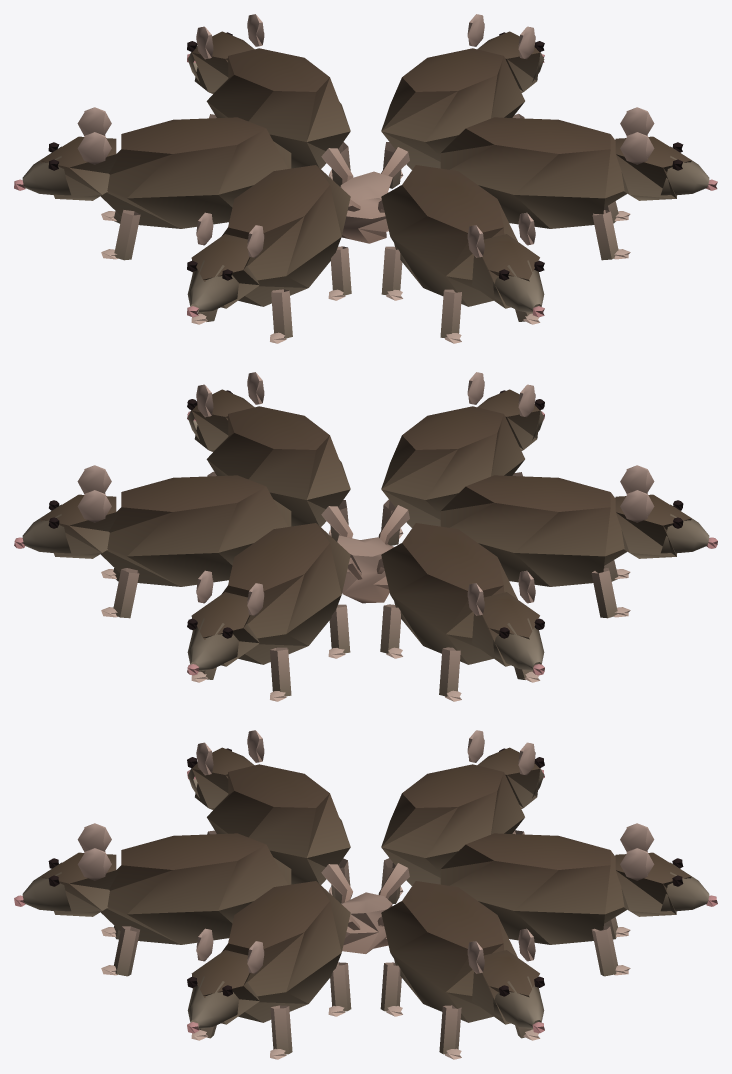
File: rat_king.glb
3 renders of one model, top to bottom at view 1: azimuth 30°, elevation 25°; view 2: azimuth 150°, elevation 25°; view 3: azimuth 270°, elevation 25°, orthographic.
Visible parts, largest first — view 1: rat_king; view 2: rat_king; view 3: rat_king.
Boxes of the visible parts, box(x1,y1,x2,y2) form: rat_king: box(14, 14, 717, 343); rat_king: box(14, 372, 717, 701); rat_king: box(14, 730, 717, 1059).
Size of the model in its own units: 1.35 by 0.296 by 1.56.
